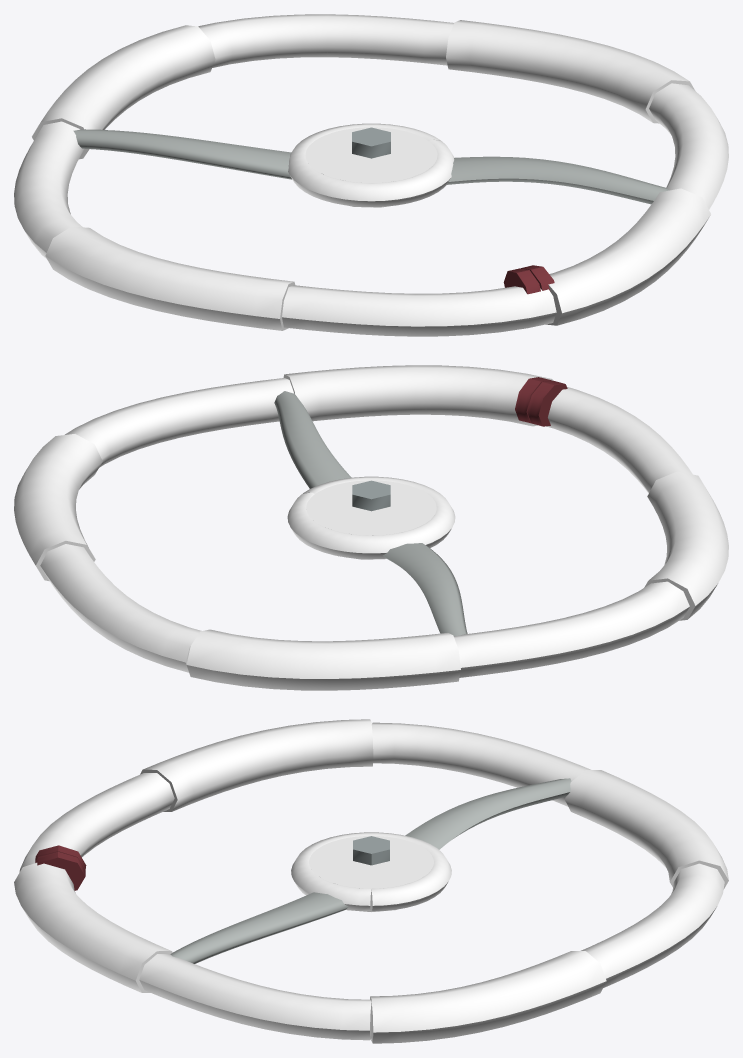
Rendered from Wheel_08_N_炭紺・白筋.glb.
3 renders of one model, top to bottom at view 1: azimuth 30°, elevation 25°; view 2: azimuth 150°, elevation 25°; view 3: azimuth 270°, elevation 25°, orthographic. The views are drawn at different scales.
Parts seen in each view (by area): view 1: Wheel_08_N; view 2: Wheel_08_N; view 3: Wheel_08_N.
Part boxes in pixels (x1=…): Wheel_08_N: x1=14, y1=14, x2=728, y2=336; Wheel_08_N: x1=14, y1=365, x2=728, y2=690; Wheel_08_N: x1=14, y1=719, x2=728, y2=1043.
Bounding box in the file's own units: 0.3376 × 0.0299 × 0.3376.
Materials: 4 (4 with a texture image).
